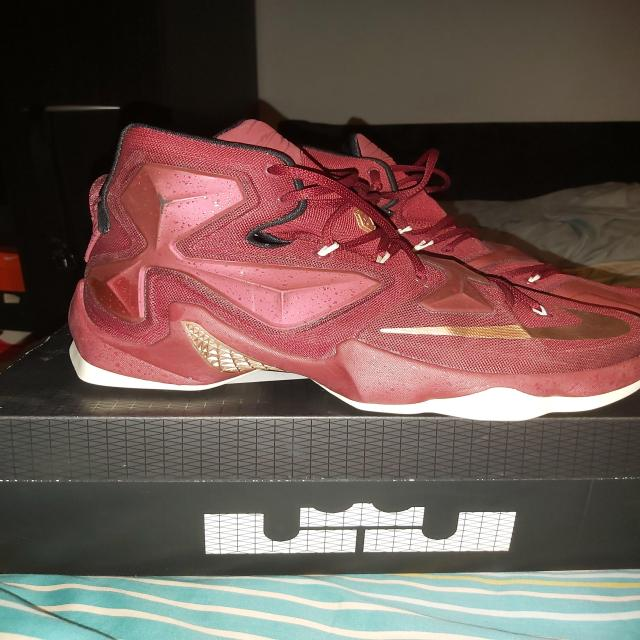shoe: (61, 106, 635, 424)
